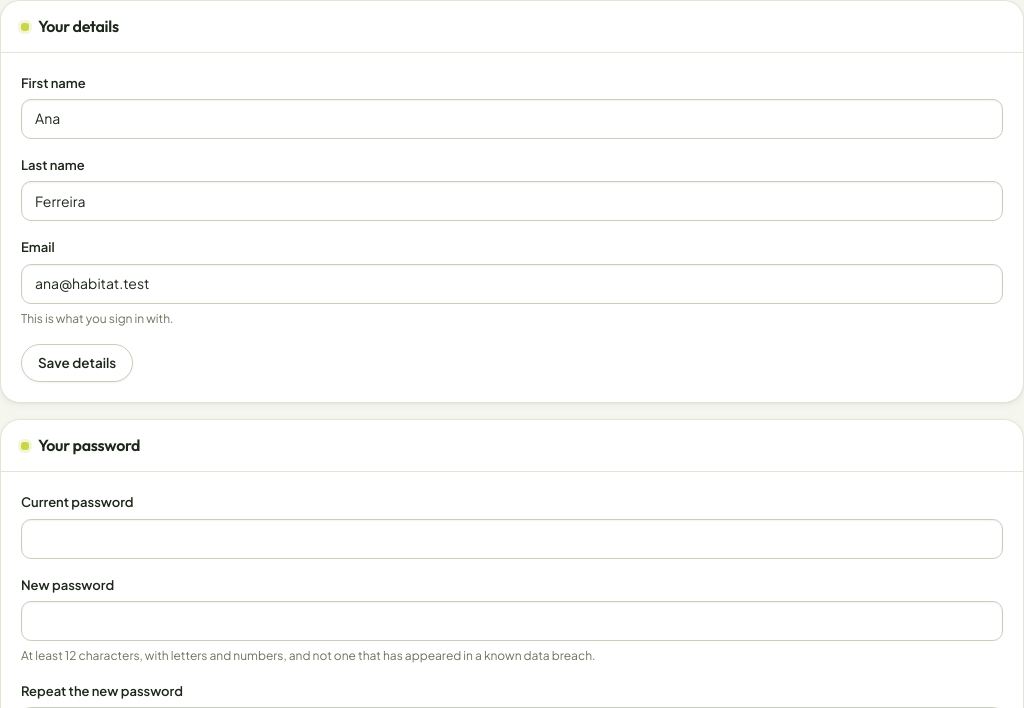
it: your details › shows the server’s refusal against the field it belongs to
Replace the text in the field labelled "Email" with "osama@insharo.consulting": (512, 284) [21,264,1003,304]
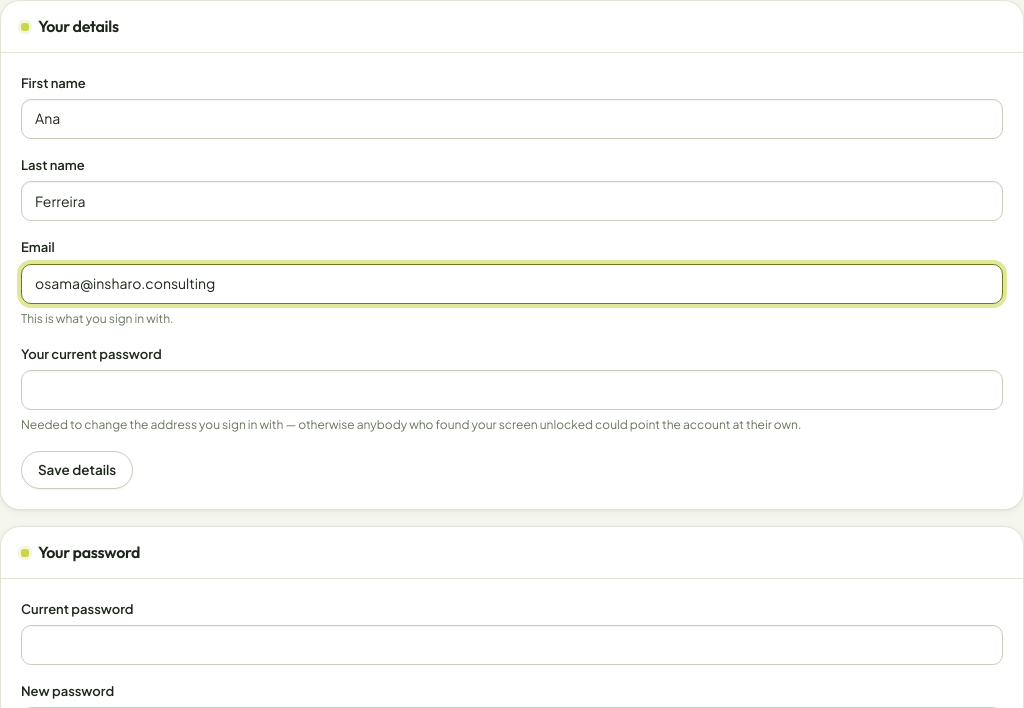
In the password field labelled "Your current password": (512, 390) [21,370,1003,410], type "wrong"
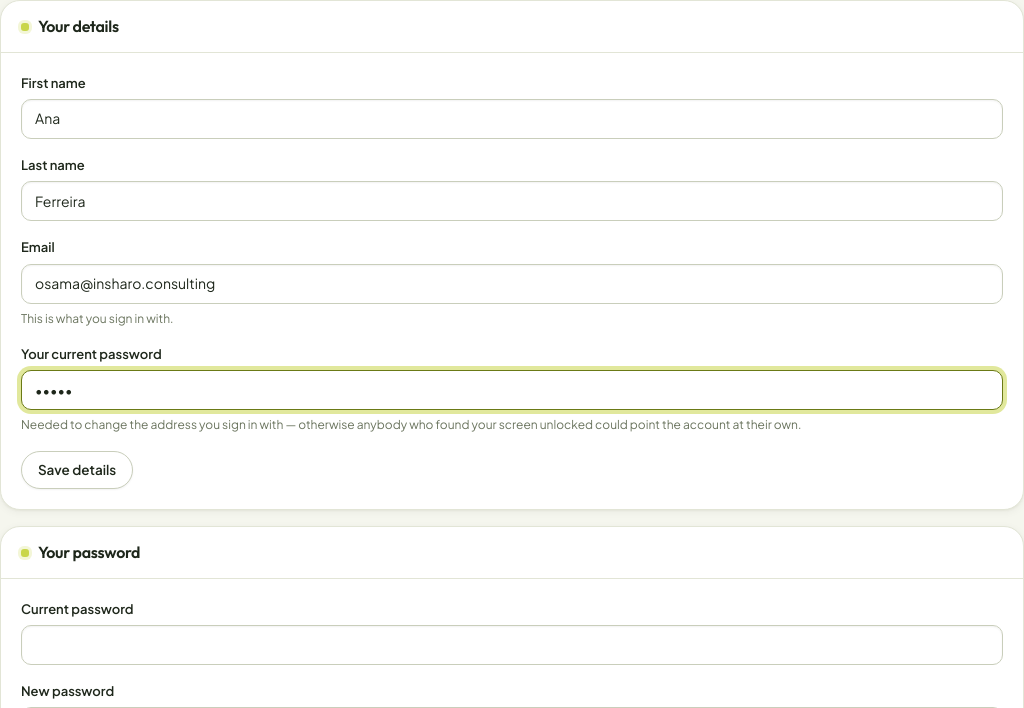
Click the button "Save details": (77, 470) [21,451,133,489]
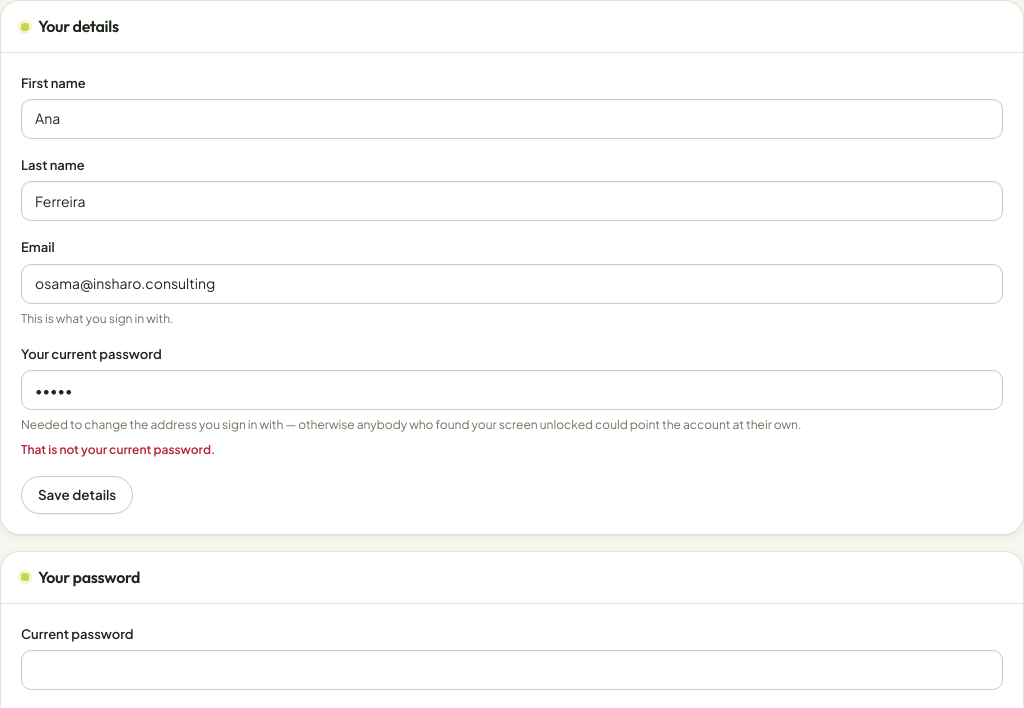
Now the text "That is not your current password." is shown, box [21,442,215,457]
